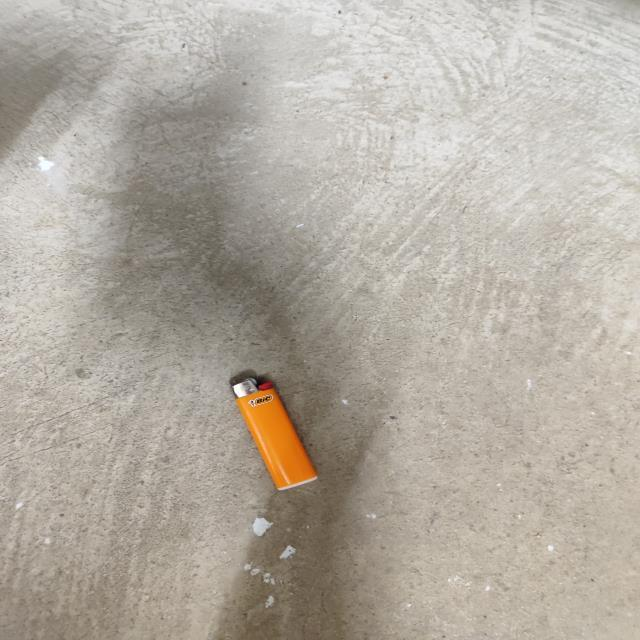lighter: (231, 374, 316, 490)
